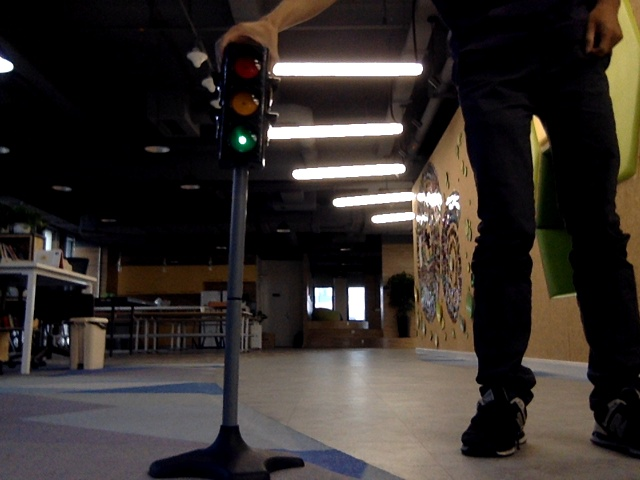green: (226, 51, 259, 157)
